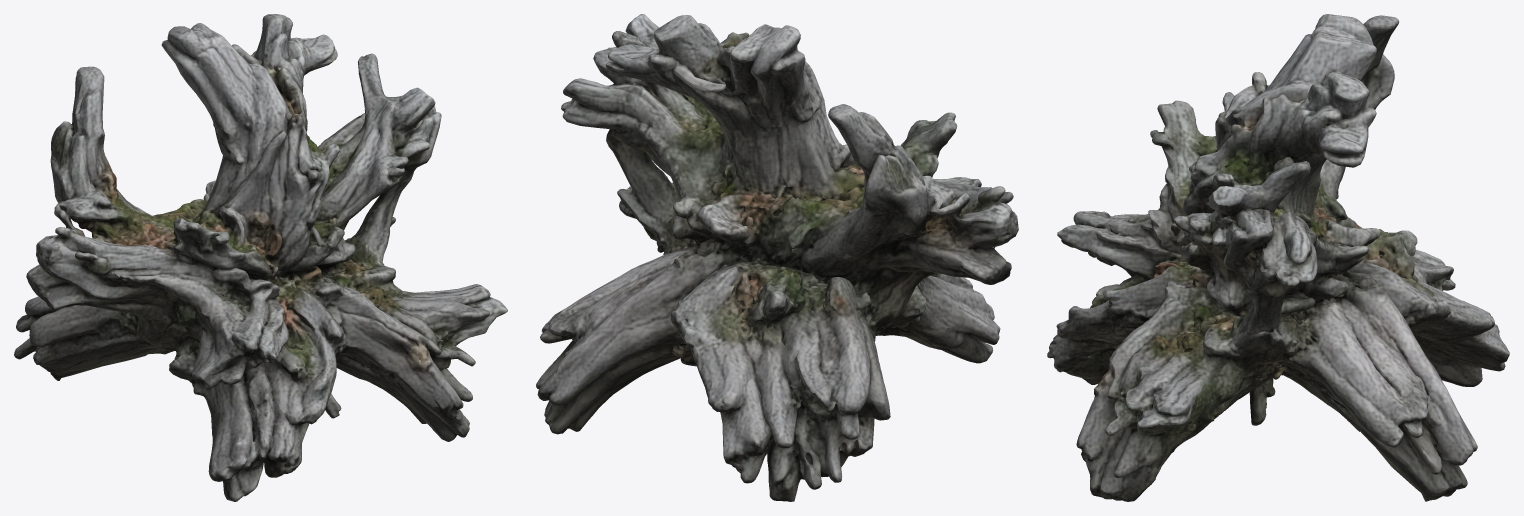
The model's file is driftwood-root-v21-lod.glb.
3 views of the same model, side by side, from view 1: azimuth 30°, elevation 25°; view 2: azimuth 150°, elevation 25°; view 3: azimuth 270°, elevation 25° (orthographic). The views are drawn at different scales.
Visible parts, largest first — view 1: geometry_0; view 2: geometry_0; view 3: geometry_0.
Part boxes in pixels (x1=…): geometry_0: x1=14, y1=14, x2=507, y2=501; geometry_0: x1=536, y1=14, x2=1018, y2=501; geometry_0: x1=1047, y1=14, x2=1509, y2=501.
Bounding box in the file's own units: 0.8498 × 0.7454 × 0.7762.
Materials: 1 (1 with a texture image).
